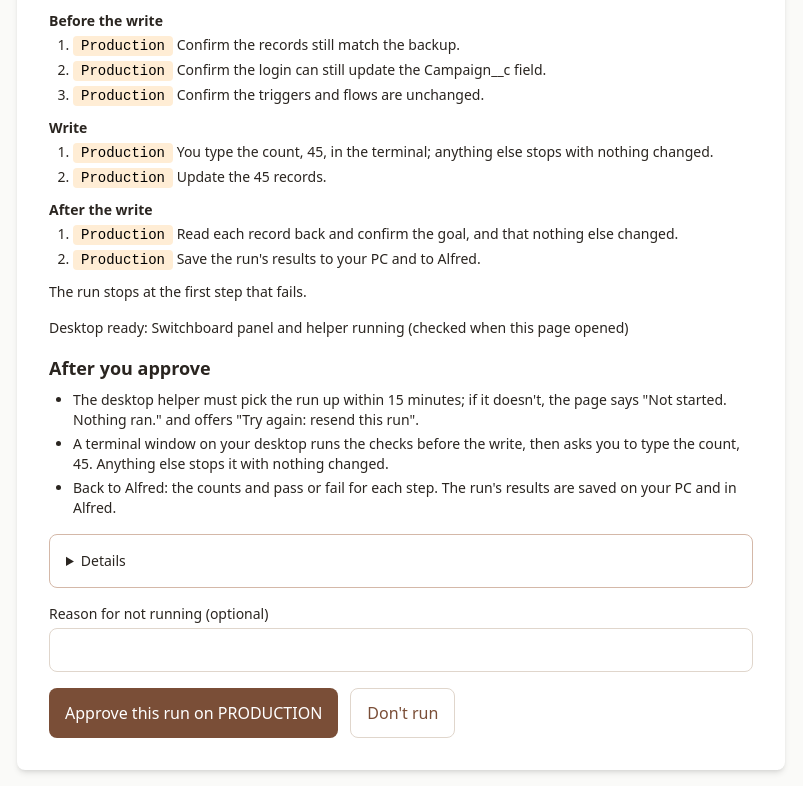
Test: a real page is unchanged › Approve: the bare line, the wake note with no copy button, and the plain sent text
(page scrolled)
Expected: the text with test id "run-desktop" does not show "Checking", [49,318,628,337]
Click the button with test id "run-approve". click: (194, 713)
box: [49,688,338,738]
(page scrolled)
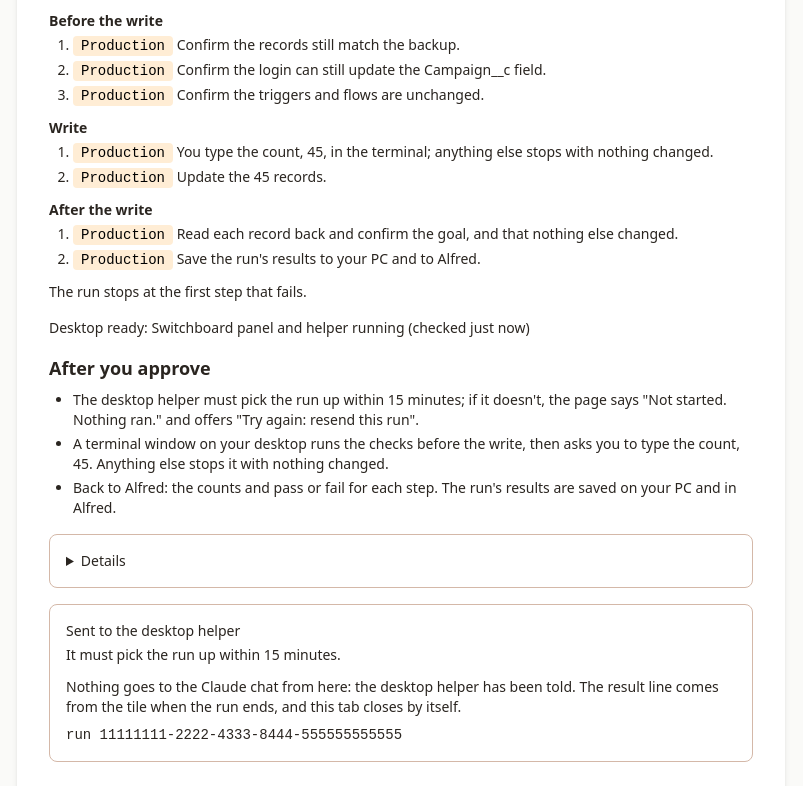
Expected: the element with test id "run-result-line" does not show "This line goes to the Claude chat by itself; you can close this tab.", [66,677,736,745]
Expected: the element with test id "run-result-line" shows "Nothing goes to the Claude chat from here: the desktop helper has been told. The result line comes from the tile when the run ends, and this tab closes by itsel", [66,677,719,716]
Expected: the text with test id "run-sent-text" reads "It must pick the run up within 15 minutes.", [66,645,341,664]
